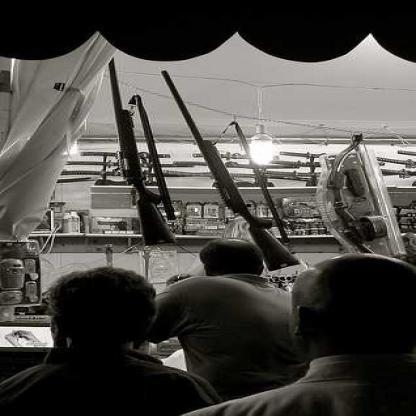rifle: (144, 68, 310, 275), (67, 32, 182, 249)
